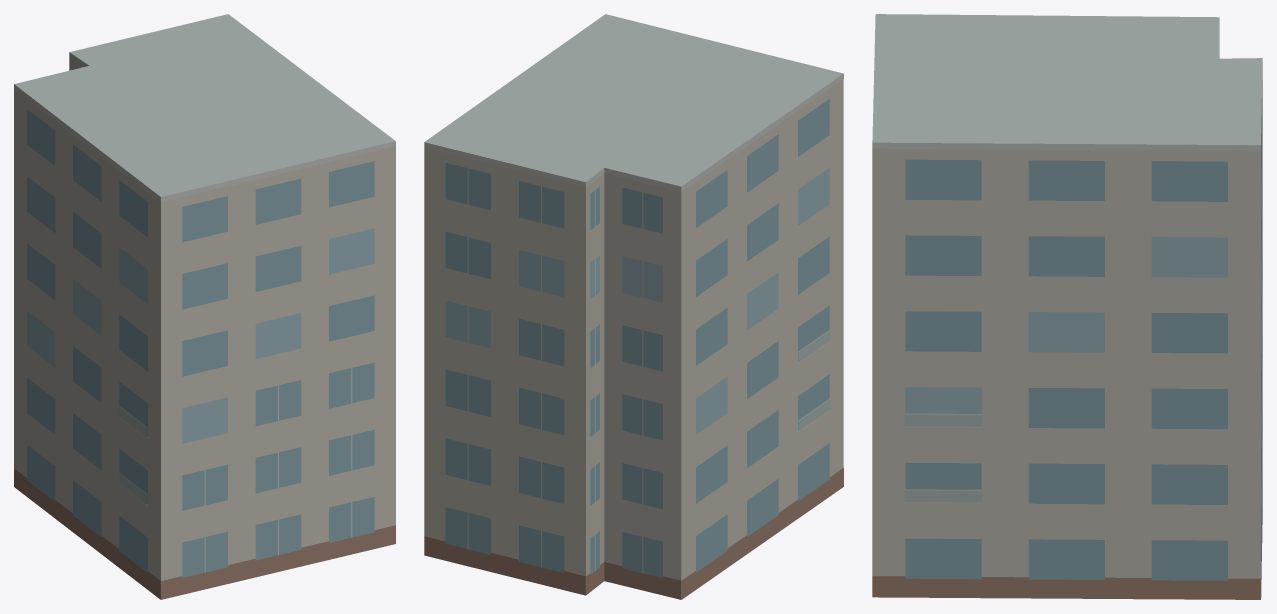
Rendered from survey-upis-32572807.glb.
3 renders of one model, left to right at view 1: azimuth 30°, elevation 25°; view 2: azimuth 150°, elevation 25°; view 3: azimuth 270°, elevation 25°, orthographic. The views are drawn at different scales.
Parts seen in each view (by area): view 1: survey-upis-32572807.tmp; view 2: survey-upis-32572807.tmp; view 3: survey-upis-32572807.tmp.
Boxes of the visible parts, box(x1,y1,x2,y2) form: survey-upis-32572807.tmp: box(14, 14, 395, 599); survey-upis-32572807.tmp: box(424, 14, 843, 599); survey-upis-32572807.tmp: box(872, 14, 1262, 599).
Size of the model in its own units: 11.35 by 18.3 by 14.24.
